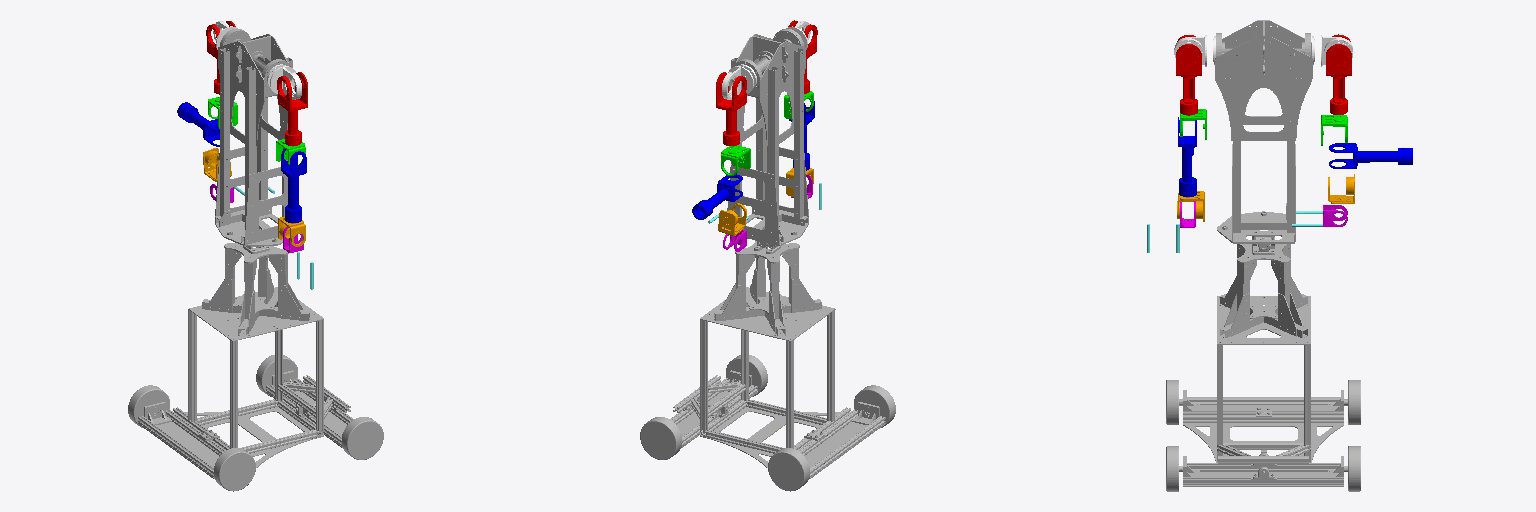
--- Render facts (derived) ---
The picture shows the robot from 3 angles, left to right: view 1: azimuth 30°, elevation 25°; view 2: azimuth 150°, elevation 25°; view 3: azimuth 270°, elevation 25°; orthographic projection.
Robot: neurofull — 23 links, 22 joints (12 revolute, 4 prismatic, 6 fixed); root link base_footprint; default pose: joints at zero except 4 at the middle of their limits (left_joint_gripper_l = -0.075, left_joint_gripper_r = -0.075, right_joint_gripper_l = -0.075, right_joint_gripper_r = -0.075).
Visible links, largest first — view 1: base_link, base_leg, right_arm_link2, right_arm_link4, left_arm_link4, right_arm_link1; view 2: base_link, base_leg, left_arm_link2, left_arm_link4, left_arm_link1, left_arm_link5, left_arm_link3; view 3: base_link, base_leg, right_arm_link2, left_arm_link2, left_arm_link4, right_arm_link4.
Boxes of the visible links, left/top/right/bottom form: base_link: left=188, top=28, right=323, bottom=341; base_leg: left=128, top=302, right=383, bottom=491; right_arm_link2: left=277, top=72, right=307, bottom=145; right_arm_link4: left=281, top=149, right=306, bottom=222; left_arm_link4: left=177, top=102, right=219, bottom=146; right_arm_link1: left=267, top=64, right=301, bottom=99; base_link: left=700, top=29, right=835, bottom=341; base_leg: left=640, top=302, right=895, bottom=491; left_arm_link2: left=716, top=72, right=746, bottom=145; left_arm_link4: left=692, top=174, right=742, bottom=219; left_arm_link1: left=722, top=64, right=756, bottom=99; left_arm_link5: left=718, top=203, right=746, bottom=235; left_arm_link3: left=721, top=145, right=750, bottom=175; base_link: left=1215, top=20, right=1312, bottom=344; base_leg: left=1166, top=345, right=1360, bottom=491; right_arm_link2: left=1176, top=35, right=1201, bottom=115; left_arm_link2: left=1326, top=34, right=1351, bottom=114; left_arm_link4: left=1329, top=143, right=1412, bottom=168; right_arm_link4: left=1178, top=117, right=1196, bottom=196.
Size in the robot's own frame: 0.624 by 0.8183 by 1.45 metres.
14 mesh visuals loaded from 14 distinct referenced files (14 binary STL).

URDF robot description (neurofull):
<robot
  name="neurofull">
  <link 
    name="base_footprint">
    <visual>
    <origin rpy="0 0 0" xyz="0 0 0"/>
    <geometry>
       <box size="0.05 0.05 0.001"/>
    </geometry>
    <material name="TransparentGreen"/>
    </visual>
  </link>
  <link
    name="base_leg">
    <inertial>
      <origin
        xyz="0 0 0.0344645056443236"
        rpy="0 0 0" />
      <mass
        value="4.96180110119092" />
      <inertia
        ixx="0.260181029472697"
        ixy="-1.8355788022317E-06"
        ixz="-0.00155137956745712"
        iyy="0.263728282272559"
        iyz="1.00993985627843E-07"
        izz="0.488283544882969" />
    </inertial>
    <visual>
      <origin
        xyz="0 0 0"
        rpy="0 0 0" />
      <geometry>
        <mesh
          filename="package://neurofull/meshes/base_leg.stl" />
      </geometry>
      <material
        name="">
        <color
          rgba="0.752941176470588 0.752941176470588 0.752941176470588 1" />
      </material>
    </visual>
    <collision>
      <origin
        xyz="0 0 0"
        rpy="0 0 0" />
      <geometry>
        <mesh
          filename="package://neurofull/meshes/base_leg.stl" />
      </geometry>
    </collision>
  </link>

  <joint name="joint_footprint" type="fixed">
    <origin rpy="0 0 0" xyz="0 0 0"/>
    <parent link="base_footprint"/>
    <child link="base_leg"/>
  </joint>


  <link
    name="base_link">
    <inertial>
      <origin
        xyz="-0.00763079814674683 -0.000785897750140402 0.497022585106364"
        rpy="0 0 0" />
      <mass
        value="2.64772097817827" />
      <inertia
        ixx="0.355578054616091"
        ixy="0.00054044346883383"
        ixz="0.00826972267071127"
        iyy="0.354512666156879"
        iyz="-0.00128012471195156"
        izz="0.0346040156500564" />
    </inertial>
    <visual>
      <origin
        xyz="0 0 0"
        rpy="0 0 0" />
      <geometry>
        <mesh
          filename="package://neurofull/meshes/base_link.stl" />
      </geometry>
      <material
        name="">
        <color
          rgba="0.752941176470588 0.752941176470588 0.752941176470588 1" />
      </material>
    </visual>
    <collision>
      <origin
        xyz="0 0 0"
        rpy="0 0 0" />
      <geometry>
        <mesh
          filename="package://neurofull/meshes/base_link.stl" />
      </geometry>
    </collision>
  </link>
  <joint
    name="base_link_joint"
    type="fixed">
    <origin
      xyz="0 0 0.423"
      rpy="0 0 0" />
    <parent
      link="base_leg" />
    <child
      link="base_link" />
    <axis
      xyz="0 0 0" />
  </joint>

  <link
    name="left_arm_link0">
  </link>
  <joint
    name="left_arm_joint0"
    type="fixed">
    <origin
      xyz="0 0.146 0.917"
      rpy="-1.5708 0 0" />
    <parent
      link="base_link" />
    <child
      link="left_arm_link0" />
    <axis
      xyz="0 0 0" />
  </joint>




  <link
    name="left_arm_link1">
    <inertial>
      <origin
        xyz="0 0 0.0472461416838423"
        rpy="0 0 0" />
      <mass
        value="0.139895412046326" />
      <inertia
        ixx="0.000291527799787079"
        ixy="7.02048677679412E-07"
        ixz="-1.54733263205051E-05"
        iyy="0.000240969210302021"
        iyz="-2.14818780078269E-07"
        izz="0.000151629908718559" />
    </inertial>
    <visual>
      <origin
        xyz="0 0 0"
        rpy="0 0 0" />
      <geometry>
        <mesh
          filename="package://neurofull/meshes/left_arm_link1.stl" />
      </geometry>
      <material
        name="">
        <color
          rgba="1 1 1 1" />
      </material>
    </visual>
    <collision>
      <origin
        xyz="0 0 0"
        rpy="0 0 0" />
      <geometry>
        <mesh
          filename="package://neurofull/meshes/left_arm_link1.stl" />
      </geometry>
    </collision>
  </link>
  <joint
    name="left_arm_joint1"
    type="revolute">
    <origin
      xyz="0 0 0.001"
      rpy="0 0 0" />
    <parent
      link="left_arm_link0" />
    <child
      link="left_arm_link1" />
    <axis
      xyz="0 0 -1" />
    <limit
      lower="-2.2"
      upper="2.2"
      effort="2"
      velocity="1" />
  </joint>
  <link
    name="left_arm_link2">
    <inertial>
      <origin
        xyz="0.0747629358729344 0 0"
        rpy="0 0 0" />
      <mass
        value="0.222706771538381" />
      <inertia
        ixx="0.000221293565894878"
        ixy="9.64715999128791E-08"
        ixz="1.17177262431235E-05"
        iyy="0.00108680182339941"
        iyz="7.3745697887011E-10"
        izz="0.00105620684573982" />
    </inertial>
    <visual>
      <origin
        xyz="0 0 0"
        rpy="0 0 0" />
      <geometry>
        <mesh
          filename="package://neurofull/meshes/left_arm_link2.stl" />
      </geometry>
      <material
        name="">
        <color
          rgba="1 0 0 1" />
      </material>
    </visual>
    <collision>
      <origin
        xyz="0 0 0"
        rpy="0 0 0" />
      <geometry>
        <mesh
          filename="package://neurofull/meshes/left_arm_link2.stl" />
      </geometry>
    </collision>
  </link>
  <joint
    name="left_arm_joint2"
    type="revolute">
    <origin
      xyz="-0.0039996 0 0.084"
      rpy="1.5708 0 1.5708" />
    <parent
      link="left_arm_link1" />
    <child
      link="left_arm_link2" />
    <axis
      xyz="-0.00059831 0 -1" />
    <limit
      lower="-0.78"
      upper="0.78"
      effort="2"
      velocity="1" />
  </joint>
  <link
    name="left_arm_link3">
    <inertial>
      <origin
        xyz="0 0 0.0252980249667199"
        rpy="0 0 0" />
      <mass
        value="0.078971511055653" />
      <inertia
        ixx="7.19666232277633E-05"
        ixy="-2.29834747206398E-21"
        ixz="-1.68863370887188E-05"
        iyy="0.000116283270534729"
        iyz="5.15631306641055E-20"
        izz="0.000104168336512131" />
    </inertial>
    <visual>
      <origin
        xyz="0 0 0.0252980249667199"
        rpy="0 0 0" />
      <geometry>
        <mesh
          filename="package://neurofull/meshes/left_arm_link3.stl" />
      </geometry>
      <material
        name="">
        <color
          rgba="0 1 0.00392156862745098 1" />
      </material>
    </visual>
    <collision>
      <origin
        xyz="0 0 0.0252980249667199"
        rpy="0 0 0" />
      <geometry>
        <mesh
          filename="package://neurofull/meshes/left_arm_link3.stl" />
      </geometry>
    </collision>
  </link>
  <joint
    name="left_arm_joint3"
    type="revolute">
    <origin
      xyz="0.20512 0 0"
      rpy="-1.5708 0 -1.5708" />
    <parent
      link="left_arm_link2" />
    <child
      link="left_arm_link3" />
    <axis
      xyz="0 0 -1" />
    <limit
      lower="-3.14"
      upper="3.14"
      effort="2"
      velocity="1" />
  </joint>
  <link
    name="left_arm_link4">
    <inertial>
      <origin
        xyz="0.11 0 0"
        rpy="0 1.5708 0" />
      <mass
        value="0.163592437075005" />
      <inertia
        ixx="9.18715474899927E-05"
        ixy="1.14360963815123E-05"
        ixz="-1.44049786151869E-05"
        iyy="0.000940484151135754"
        iyz="1.90547978307357E-07"
        izz="0.000935522761640683" />
    </inertial>
    <visual>
      <origin
        xyz="0.11 0 0"
        rpy="0 1.5708 0" />
      <geometry>
        <mesh
          filename="package://neurofull/meshes/left_arm_link4.stl" />
      </geometry>
      <material
        name="">
        <color
          rgba="0 0 1 1" />
      </material>
    </visual>
    <collision>
      <origin
        xyz="0.11 0 0"
        rpy="0 1.5708 0" />
      <geometry>
        <mesh
          filename="package://neurofull/meshes/left_arm_link4.stl" />
      </geometry>
    </collision>
  </link>
  <joint
    name="left_arm_joint4"
    type="revolute">
    <origin
      xyz="0 0 0.05"
      rpy="1.5708 -1.5708 1.5708" />
    <parent
      link="left_arm_link3" />
    <child
      link="left_arm_link4" />
    <axis
      xyz="0 0 1" />
    <limit
      lower="-2.2"
      upper="2.2"
      effort="2"
      velocity="1" />
  </joint>
  <link
    name="left_arm_link5">
    <inertial>
      <origin
        xyz="0 0 0.034"
        rpy="0 0 0" />
      <mass
        value="0.0975990294014391" />
      <inertia
        ixx="9.17613388444776E-05"
        ixy="1.93938108659678E-06"
        ixz="-2.18069280623664E-05"
        iyy="0.000145599253848535"
        iyz="3.27545465049375E-06"
        izz="0.000109308596470807" />
    </inertial>
    <visual>
      <origin
        xyz="0 0 0.034"
        rpy="0 0 0" />
      <geometry>
        <mesh
          filename="package://neurofull/meshes/left_arm_link5.stl" />
      </geometry>
      <material
        name="">
        <color
          rgba="1 0.666666666666667 0 1" />
      </material>
    </visual>
    <collision>
      <origin
        xyz="0 0 0.034"
        rpy="0 0 0" />
      <geometry>
        <mesh
          filename="package://neurofull/meshes/left_arm_link5.stl" />
      </geometry>
    </collision>
  </link>
  <joint
    name="left_arm_joint5"
    type="revolute">
    <origin
      xyz="0.228 0 0"
      rpy="3.14 -1.5708 0" />
    <parent
      link="left_arm_link4" />
    <child
      link="left_arm_link5" />
    <axis
      xyz="0 0 1" />
    <limit
      lower="-3.14"
      upper="3.14"
      effort="2"
      velocity="1" />
  </joint>
  <link
    name="left_arm_link6">
    <inertial>
      <origin
        xyz="0.025 0 0"
        rpy="0 0 0" />
      <mass
        value="0.0342933650278285" />
      <inertia
        ixx="2.81251487192025E-05"
        ixy="-9.52330011495129E-08"
        ixz="8.00630003676371E-09"
        iyy="2.12668689963334E-05"
        iyz="5.76691167452361E-07"
        izz="2.57654425067355E-05" />
    </inertial>
    <visual>
      <origin
        xyz="0.025 0 0"
        rpy="0 0 0" />
      <geometry>
        <mesh
          filename="package://neurofull/meshes/left_arm_link6.stl" />
      </geometry>
      <material
        name="">
        <color
          rgba="1 0 1 1" />
      </material>
    </visual>
    <collision>
      <origin
        xyz="0.025 0 0"
        rpy="0 0 0" />
      <geometry>
        <mesh
          filename="package://neurofull/meshes/left_arm_link6.stl" />
      </geometry>
    </collision>
  </link>
  <joint
    name="left_arm_joint6"
    type="revolute">
    <origin
      xyz="0 0 0.055"
      rpy="1.5708 -1.5708 0" />
    <parent
      link="left_arm_link5" />
    <child
      link="left_arm_link6" />
    <axis
      xyz="0 0 1" />
    <limit
      lower="-2.2"
      upper="2.2"
      effort="2"
      velocity="1" />
  </joint>
  <link
    name="left_gripper_frame">
  </link>
  <joint
    name="left_arm_joint7"
    type="fixed">
    <origin
      xyz="0.09 0 0"
      rpy="1.5708 0 0" />
    <parent
      link="left_arm_link6" />
    <child
      link="left_gripper_frame" />
  </joint>
  <link
    name="left_finger_l">
    <inertial>
      <origin
        xyz="0 -0.0475 0"
        rpy="1.57 0 0" />
      <mass
        value="0.0004954649646829" />
      <inertia
        ixx="1.28718097526934E-07"
        ixy="-4.95287937680829E-22"
        ixz="4.25264237478257E-23"
        iyy="1.27301609789733E-07"
        iyz="6.66607407315439E-23"
        izz="4.01590299797697E-09" />
    </inertial>
    <visual>
      <origin
        xyz="0 -0.0475 0"
        rpy="1.57 0 0" />
      <geometry>
        <cylinder length="0.095" radius="0.005" />
      </geometry>
      <material
        name="">
        <color
          rgba="0.5 1 1 1" />
      </material>
    </visual>
    <collision>
      <origin
        xyz="0 -0.0475 0"
        rpy="1.57 0 0" />
      <geometry>
        <cylinder length="0.0095" radius="0.005" />
      </geometry>
    </collision>
  </link>
  <joint
    name="left_joint_gripper_l"
    type="prismatic">
    <origin
      xyz="0 -0.05 -0.045"
      rpy="0 1.57 0" />
    <parent
      link="left_arm_link6" />
    <child
      link="left_finger_l" />
    <axis
      xyz="1 0 0" />
    <limit
      effort="1" 
      lower="-0.11" 
      upper="-0.04" 
      velocity="1.0"/>
  </joint>
  <link
    name="left_finger_r">
    <inertial>
      <origin
        xyz="0 -0.0475 0"
        rpy="1.57 0 0" />
      <mass
        value="0.0004954649646829" />
      <inertia
        ixx="1.28718097526934E-07"
        ixy="-4.95287937680829E-22"
        ixz="4.25264237478257E-23"
        iyy="1.27301609789733E-07"
        iyz="6.66607407315439E-23"
        izz="4.01590299797697E-09" />
    </inertial>
    <visual>
      <origin
        xyz="0 -0.0475 0"
        rpy="1.57 0 0" />
      <geometry>
        <cylinder length="0.095" radius="0.005" />
      </geometry>
      <material
        name="">
        <color
          rgba="0.5 1 1 1" />
      </material>
    </visual>
    <collision>
      <origin
        xyz="0 -0.0475 0"
        rpy="1.57 0 0" />
      <geometry>
        <cylinder length="0.0095" radius="0.005" />
      </geometry>
    </collision>
  </link>
  <joint
    name="left_joint_gripper_r"
    type="prismatic">
    <origin
      xyz="0 -0.05 0.045"
      rpy="0 1.57 0" />
    <parent
      link="left_arm_link6" />
    <child
      link="left_finger_r" />
    <axis
      xyz="1 0 0" />
    <limit
      effort="1" 
      lower="-0.11" 
      upper="-0.04" 
      velocity="1.0"/>
  </joint>
  <link
    name="right_arm_link0">
  </link>
  <joint
    name="right_arm_joint0"
    type="fixed">
    <origin
      xyz="0 -0.146 0.917"
      rpy="1.5708 0 0" />
    <parent
      link="base_link" />
    <child
      link="right_arm_link0" />
    <axis
      xyz="0 0 0" />
  </joint>

  <link
    name="right_arm_link1">
    <inertial>
      <origin
        xyz="0.00300967116680029 -1.80070211996952E-06 0.0472461416840107"
        rpy="0 0 0" />
      <mass
        value="0.139895412046325" />
      <inertia
        ixx="0.000291537528341602"
        ixy="-3.02611226515367E-08"
        ixz="-1.54748146614687E-05"
        iyy="0.000240959481748641"
        iyz="9.25866316314585E-09"
        izz="0.000151629908718559" />
    </inertial>
    <visual>
      <origin
        xyz="0 0 0"
        rpy="0 0 0" />
      <geometry>
        <mesh
          filename="package://neurofull/meshes/right_arm_link1.stl" />
      </geometry>
      <material
        name="">
        <color
          rgba="1 1 1 1" />
      </material>
    </visual>
    <collision>
      <origin
        xyz="0 0 0"
        rpy="0 0 0" />
      <geometry>
        <mesh
          filename="package://neurofull/meshes/right_arm_link1.stl" />
      </geometry>
    </collision>
  </link>
  <joint
    name="right_arm_joint1"
    type="revolute">
    <origin
      xyz="0 0 0.001"
      rpy="0 0 0" />
    <parent
      link="right_arm_link0" />
    <child
      link="right_arm_link1" />
    <axis
      xyz="0 0 1" />
    <limit
      lower="-1.57"
      upper="1.57"
      effort="2"
      velocity="1" />
  </joint>
  <link
    name="right_arm_link2">
    <inertial>
      <origin
        xyz="0.0746661079181091 -4.29495033152372E-06 0.00778523531588626"
        rpy="0 0 0" />
      <mass
        value="0.222706771537626" />
      <inertia
        ixx="0.000221129610017924"
        ixy="9.6453292163997E-08"
        ixz="6.23932395302156E-07"
        iyy="0.00108680182343279"
        iyz="2.01887974864766E-09"
        izz="0.00105637080165108" />
    </inertial>
    <visual>
      <origin
        xyz="0 0 0"
        rpy="0 0 0" />
      <geometry>
        <mesh
          filename="package://neurofull/meshes/right_arm_link2.stl" />
      </geometry>
      <material
        name="">
        <color
          rgba="1 0 0 1" />
      </material>
    </visual>
    <collision>
      <origin
        xyz="0 0 0"
        rpy="0 0 0" />
      <geometry>
        <mesh
          filename="package://neurofull/meshes/right_arm_link2.stl" />
      </geometry>
    </collision>
  </link>
  <joint
    name="right_arm_joint2"
    type="revolute">
    <origin
      xyz="-0.004 0 0.084"
      rpy="-1.5708 0 -1.5708" />
    <parent
      link="right_arm_link1" />
    <child
      link="right_arm_link2" />
    <axis
      xyz="-0.00059831 0 -1" />
    <limit
      lower="-0.78"
      upper="0.78"
      effort="2"
      velocity="1" />
  </joint>
  <link
    name="right_arm_link3">
    <inertial>
      <origin
        xyz="0.0153020226123045 -4.44089209850063E-16 0.0252980249667199"
        rpy="0 0 0" />
      <mass
        value="0.0789715110556525" />
      <inertia
        ixx="7.1966623227763E-05"
        ixy="9.12970822603372E-19"
        ixz="-1.68863370887186E-05"
        iyy="0.000116283270534728"
        iyz="2.77416525115584E-19"
        izz="0.000104168336512131" />
    </inertial>
    <visual>
      <origin
        xyz="0 0 0"
        rpy="0 0 0" />
      <geometry>
        <mesh
          filename="package://neurofull/meshes/right_arm_link3.stl" />
      </geometry>
      <material
        name="">
        <color
          rgba="0 1 0.00392156862745098 1" />
      </material>
    </visual>
    <collision>
      <origin
        xyz="0 0 0"
        rpy="0 0 0" />
      <geometry>
        <mesh
          filename="package://neurofull/meshes/right_arm_link3.stl" />
      </geometry>
    </collision>
  </link>
  <joint
    name="right_arm_joint3"
    type="revolute">
    <origin
      xyz="0.20501 0 0.0098773"
      rpy="1.5714 8.5249E-17 1.5708" />
    <parent
      link="right_arm_link2" />
    <child
      link="right_arm_link3" />
    <axis
      xyz="0 0.013284 -0.99991" />
    <limit
      lower="-3.14"
      upper="3.14"
      effort="2"
      velocity="1" />
  </joint>
  <link
    name="right_arm_link4">
    <inertial>
      <origin
        xyz="0.110286393193599 9.07633075035719E-05 -0.00524029088871542"
        rpy="0 0 0" />
      <mass
        value="0.163592437071327" />
      <inertia
        ixx="9.1718321663276E-05"
        ixy="-8.5538514906755E-07"
        ixz="-1.44062275602948E-05"
        iyy="0.000940637376901673"
        iyz="-1.80574628596523E-08"
        izz="0.000935522761578219" />
    </inertial>
    <visual>
      <origin
        xyz="0 0 0"
        rpy="0 0 0" />
      <geometry>
        <mesh
          filename="package://neurofull/meshes/right_arm_link4.stl" />
      </geometry>
      <material
        name="">
        <color
          rgba="0 0 1 1" />
      </material>
    </visual>
    <collision>
      <origin
        xyz="0 0 0"
        rpy="0 0 0" />
      <geometry>
        <mesh
          filename="package://neurofull/meshes/right_arm_link4.stl" />
      </geometry>
    </collision>
  </link>
  <joint
    name="right_arm_joint4"
    type="revolute">
    <origin
      xyz="0.0005 0 0.05"
      rpy="1.5708 -1.5702 1.5708" />
    <parent
      link="right_arm_link3" />
    <child
      link="right_arm_link4" />
    <axis
      xyz="0 0 -1" />
    <limit
      lower="-1.57"
      upper="1.57"
      effort="2"
      velocity="1" />
  </joint>
  <link
    name="right_arm_link5">
    <inertial>
      <origin
        xyz="-0.0172107616415194 -2.06427685620625E-05 -0.0345020670877002"
        rpy="0 0 0" />
      <mass
        value="0.0975990294014401" />
      <inertia
        ixx="9.17613388444844E-05"
        ixy="-2.60974087719177E-08"
        ixz="-2.18929812826313E-05"
        iyy="0.000145892500744109"
        iyz="-2.2063801782706E-08"
        izz="0.000109015349575228" />
    </inertial>
    <visual>
      <origin
        xyz="0 0 0"
        rpy="0 0 0" />
      <geometry>
        <mesh
          filename="package://neurofull/meshes/right_arm_link5.stl" />
      </geometry>
      <material
        name="">
        <color
          rgba="1 0.666666666666667 0 1" />
      </material>
    </visual>
    <collision>
      <origin
        xyz="0 0 0"
        rpy="0 0 0" />
      <geometry>
        <mesh
          filename="package://neurofull/meshes/right_arm_link5.stl" />
      </geometry>
    </collision>
  </link>
  <joint
    name="right_arm_joint5"
    type="revolute">
    <origin
      xyz="0.228 0.00013641 -0.0029121"
      rpy="3.1416 1.5708 0" />
    <parent
      link="right_arm_link4" />
    <child
      link="right_arm_link5" />
    <axis
      xyz="0 0.013882 0.9999" />
    <limit
      lower="-3.14"
      upper="3.14"
      effort="2"
      velocity="1" />
  </joint>
  <link
    name="right_arm_link6">
    <inertial>
      <origin
        xyz="-1.72111302869649E-05 -0.02876646947993 -0.000345123561374117"
        rpy="0 0 0" />
      <mass
        value="0.0342933650278285" />
      <inertia
        ixx="2.81264683989044E-05"
        ixy="-4.10492551289922E-09"
        ixz="-3.45070552990902E-10"
        iyy="2.12655493166313E-05"
        iyz="-5.76746637947283E-07"
        izz="2.57654425067357E-05" />
    </inertial>
    <visual>
      <origin
        xyz="0 0 0"
        rpy="0 0 0" />
      <geometry>
        <mesh
          filename="package://neurofull/meshes/right_arm_link6.stl" />
      </geometry>
      <material
        name="">
        <color
          rgba="1 0 1 1" />
      </material>
    </visual>
    <collision>
      <origin
        xyz="0 0 0"
        rpy="0 0 0" />
      <geometry>
        <mesh
          filename="package://neurofull/meshes/right_arm_link6.stl" />
      </geometry>
    </collision>
  </link>
  <joint
    name="right_arm_joint6"
    type="revolute">
    <origin
      xyz="0.001 -3.2907E-05 -0.055"
      rpy="1.5708 0 1.5708" />
    <parent
      link="right_arm_link5" />
    <child
      link="right_arm_link6" />
    <axis
      xyz="0 0 1" />
    <limit
      lower="-1.57"
      upper="1.57"
      effort="2"
      velocity="1" />
  </joint>
  <link
    name="right_gripper_frame">
  </link>
  <joint
    name="right_arm_joint7"
    type="fixed">
    <origin
      xyz="0 -0.09 0"
      rpy="-1.57 0 -1.57" />
    <parent
      link="right_arm_link6" />
    <child
      link="right_gripper_frame" />
  </joint>
  <link
    name="right_finger_l">
    <inertial>
      <origin
        xyz="0 -0.0475 0"
        rpy="1.57 0 0" />
      <mass
        value="0.0004954649646829" />
      <inertia
        ixx="1.28718097526934E-07"
        ixy="-4.95287937680829E-22"
        ixz="4.25264237478257E-23"
        iyy="1.27301609789733E-07"
        iyz="6.66607407315439E-23"
        izz="4.01590299797697E-09" />
    </inertial>
    <visual>
      <origin
        xyz="0 -0.0475 0"
        rpy="1.57 0 0" />
      <geometry>
        <cylinder length="0.095" radius="0.005" />
      </geometry>
      <material
        name="">
        <color
          rgba="0.5 1 1 1" />
      </material>
    </visual>
    <collision>
      <origin
        xyz="0 -0.0475 0"
        rpy="1.57 0 0" />
      <geometry>
        <cylinder length="0.0095" radius="0.005" />
      </geometry>
    </collision>
  </link>
  <joint
    name="right_joint_gripper_l"
    type="prismatic">
    <origin
      xyz="0 -0.05 -0.045"
      rpy="0 1.57 0" />
    <parent
      link="right_arm_link6" />
    <child
      link="right_finger_l" />
    <axis
      xyz="1 0 0" />
    <limit
      effort="1" 
      lower="-0.11" 
      upper="-0.04" 
      velocity="1.0"/>
  </joint>
  <link
    name="right_finger_r">
    <inertial>
      <origin
        xyz="0 -0.0475 0"
        rpy="1.57 0 0" />
      <mass
        value="0.0004954649646829" />
      <inertia
        ixx="1.28718097526934E-07"
        ixy="-4.95287937680829E-22"
        ixz="4.25264237478257E-23"
        iyy="1.27301609789733E-07"
        iyz="6.66607407315439E-23"
        izz="4.01590299797697E-09" />
    </inertial>
    <visual>
      <origin
        xyz="0 -0.0475 0"
        rpy="1.57 0 0" />
      <geometry>
        <cylinder length="0.095" radius="0.005" />
      </geometry>
      <material
        name="">
        <color
          rgba="0.5 1 1 1" />
      </material>
    </visual>
    <collision>
      <origin
        xyz="0 -0.0475 0"
        rpy="1.57 0 0" />
      <geometry>
        <cylinder length="0.0095" radius="0.005" />
      </geometry>
    </collision>
  </link>
  <joint
    name="right_joint_gripper_r"
    type="prismatic">
    <origin
      xyz="0 -0.05 0.045"
      rpy="0 1.57 0" />
    <parent
      link="right_arm_link6" />
    <child
      link="right_finger_r" />
    <axis
      xyz="1 0 0" />
    <limit
      effort="1" 
      lower="-0.11" 
      upper="-0.04" 
      velocity="1.0"/>
  </joint>
</robot>
